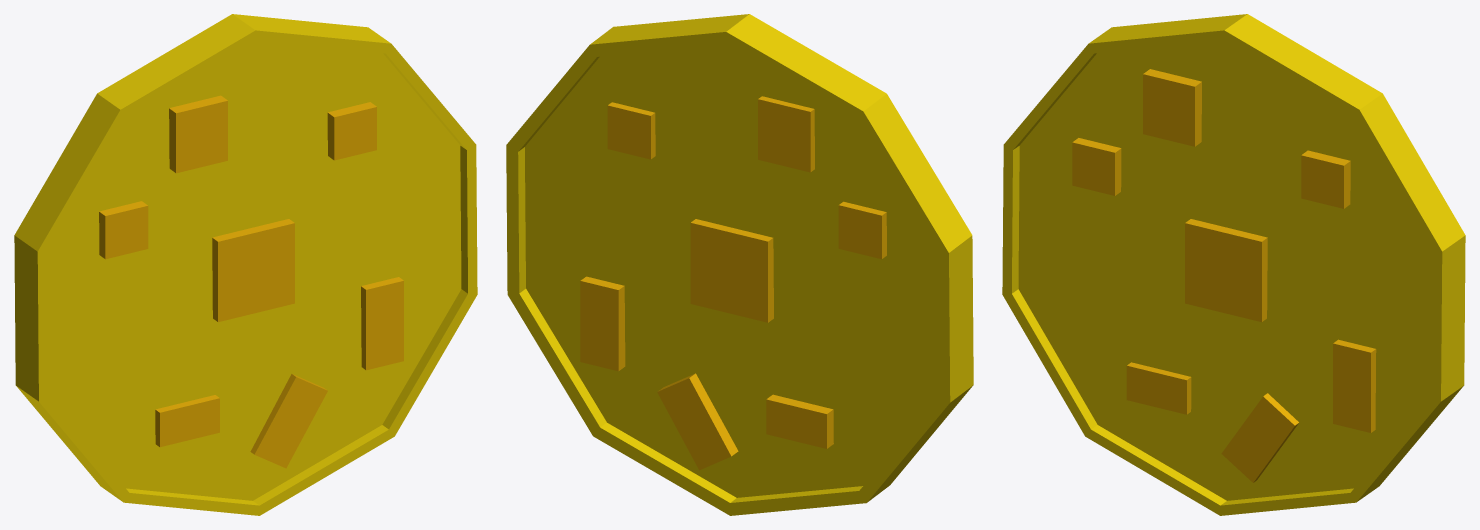
File: low_poly_coin.glb
The picture shows the model from 3 angles, left to right: view 1: azimuth 30°, elevation 25°; view 2: azimuth 150°, elevation 25°; view 3: azimuth 330°, elevation 25°; orthographic projection.
Parts seen in each view (by area): view 1: Cylinder, Cube, Cube.006, Cube.002, Cube.004, Cube.003, Cube.005, Cube.001; view 2: Cylinder, Cube, Cube.004, Cube.002, Cube.006, Cube.003, Cube.001, Cube.005; view 3: Cylinder, Cube, Cube.006, Cube.002, Cube.004, Cube.003, Cube.005, Cube.001.
Part boxes in pixels (x1=…): Cylinder: x1=14, y1=14, x2=477, y2=515; Cube: x1=212, y1=219, x2=294, y2=322; Cube.006: x1=169, y1=95, x2=227, y2=173; Cube.002: x1=361, y1=277, x2=403, y2=370; Cube.004: x1=250, y1=374, x2=327, y2=468; Cube.003: x1=155, y1=395, x2=219, y2=447; Cube.005: x1=327, y1=102, x2=376, y2=160; Cube.001: x1=99, y1=201, x2=148, y2=259; Cylinder: x1=506, y1=14, x2=973, y2=515; Cube: x1=690, y1=219, x2=773, y2=322; Cube.004: x1=657, y1=373, x2=738, y2=470; Cube.002: x1=580, y1=276, x2=625, y2=371; Cube.006: x1=758, y1=96, x2=814, y2=172; Cube.003: x1=766, y1=394, x2=833, y2=448; Cube.001: x1=838, y1=201, x2=886, y2=259; Cube.005: x1=607, y1=102, x2=655, y2=159; Cylinder: x1=1002, y1=14, x2=1465, y2=515; Cube: x1=1185, y1=219, x2=1267, y2=322; Cube.006: x1=1143, y1=69, x2=1201, y2=146; Cube.002: x1=1333, y1=339, x2=1376, y2=432; Cube.004: x1=1221, y1=393, x2=1299, y2=482; Cube.003: x1=1126, y1=362, x2=1191, y2=414; Cube.005: x1=1301, y1=150, x2=1350, y2=208; Cube.001: x1=1072, y1=138, x2=1121, y2=195.
Size of the model in its own units: 0.5706 by 0.6008 by 0.0617.
